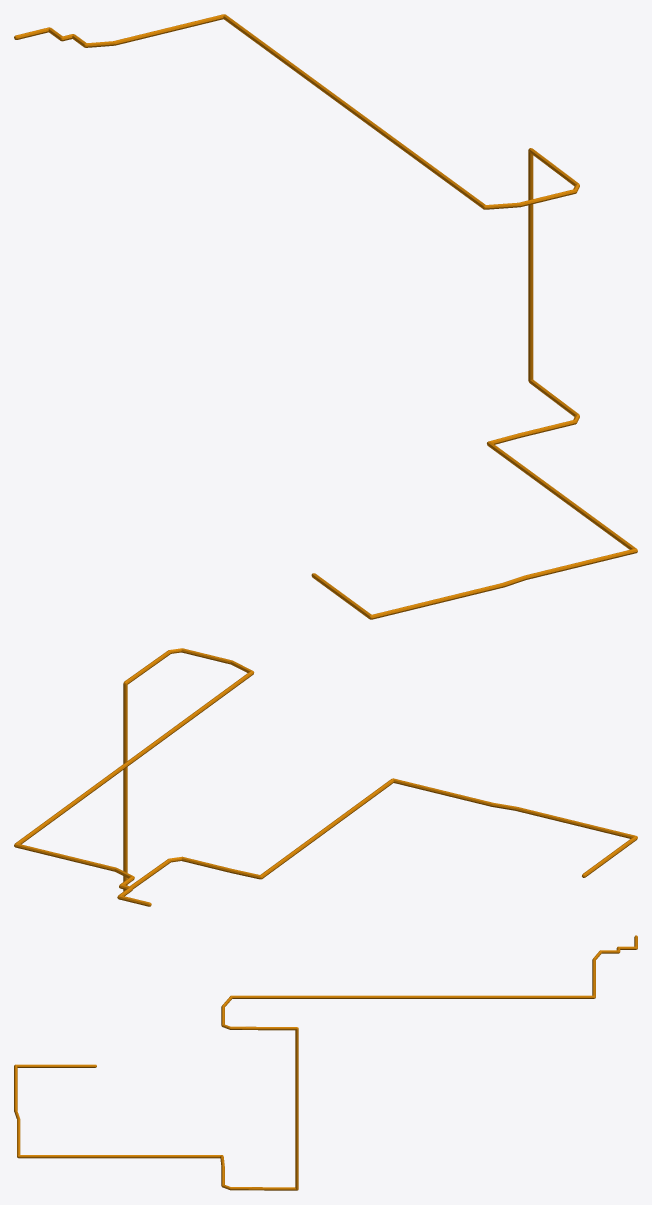
The picture shows the model from 3 angles, top to bottom: view 1: azimuth 30°, elevation 25°; view 2: azimuth 150°, elevation 25°; view 3: azimuth 270°, elevation 25°; orthographic projection. The views are drawn at different scales.
Bounding box in the file's own units: 1663 × 1020 × 3528.
